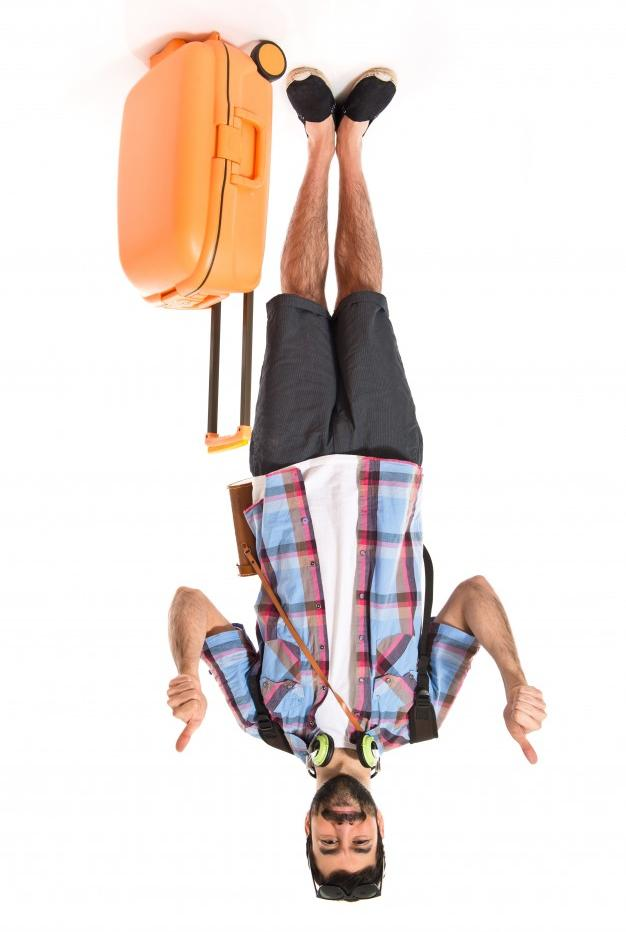thumbsdown: (510, 683, 548, 766), (166, 675, 201, 753)
